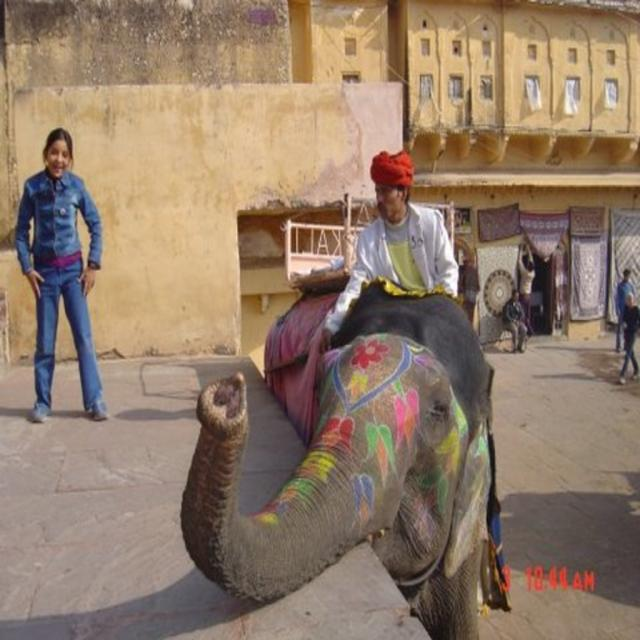elephant: (158, 278, 503, 640)
